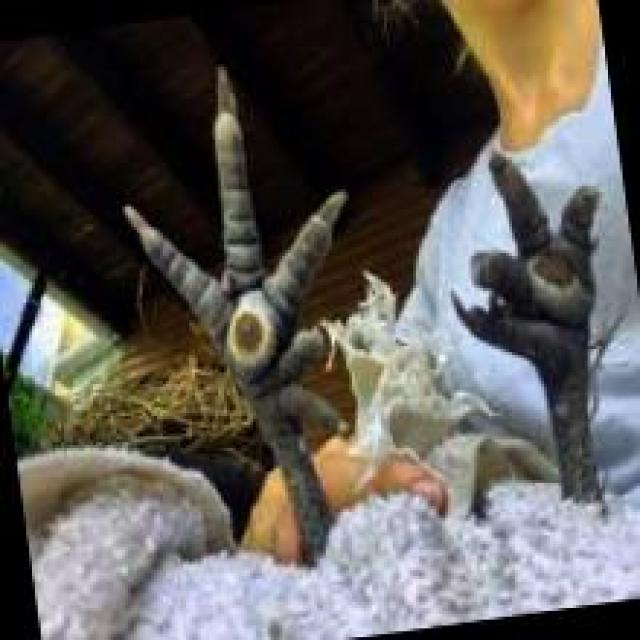Bumble foot: (438, 197, 626, 363), (168, 251, 310, 398)
